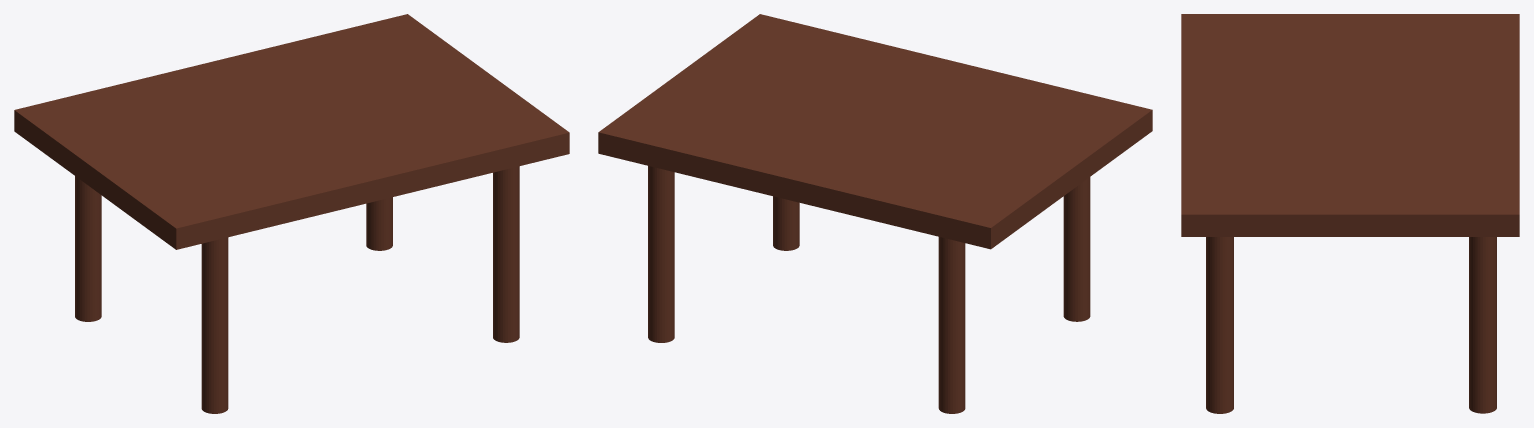
The model's file is Table.fbx.
3 renders of one model, left to right at view 1: azimuth 30°, elevation 25°; view 2: azimuth 150°, elevation 25°; view 3: azimuth 270°, elevation 25°, orthographic. The views are drawn at different scales.
Visible parts, largest first — view 1: Cube, Cylinder.003, Cylinder.001, Cylinder.002, Cylinder.004; view 2: Cube, Cylinder.002, Cylinder.004, Cylinder.003, Cylinder.001; view 3: Cube, Cylinder.001, Cylinder.004.
Boxes of the visible parts, bbox=[...] form: Cube: bbox=[14, 14, 569, 249]; Cylinder.003: bbox=[201, 237, 228, 413]; Cylinder.001: bbox=[493, 166, 519, 342]; Cylinder.002: bbox=[75, 176, 101, 321]; Cylinder.004: bbox=[366, 197, 392, 250]; Cube: bbox=[598, 14, 1152, 249]; Cylinder.002: bbox=[938, 237, 965, 413]; Cylinder.004: bbox=[648, 166, 674, 342]; Cylinder.003: bbox=[1063, 177, 1090, 321]; Cylinder.001: bbox=[773, 196, 799, 250]; Cube: bbox=[1181, 14, 1519, 236]; Cylinder.001: bbox=[1206, 237, 1233, 413]; Cylinder.004: bbox=[1469, 237, 1496, 413].
Size of the model in its own units: 730 by 368 by 521.
